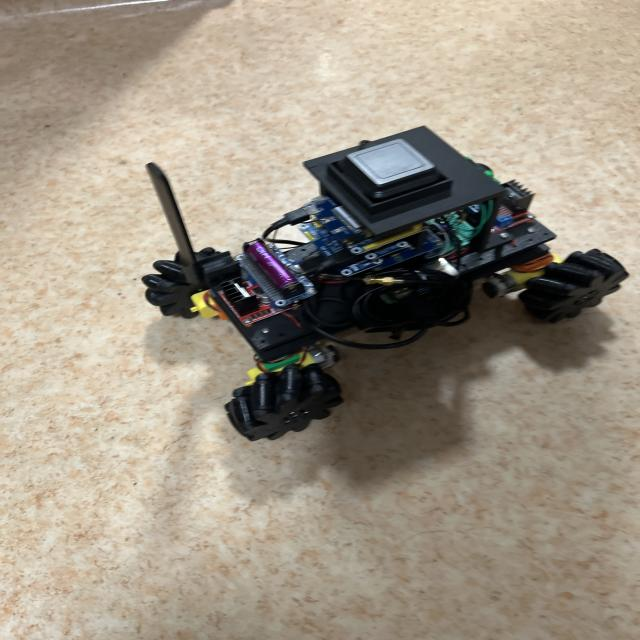robot: (142, 127, 628, 441)
